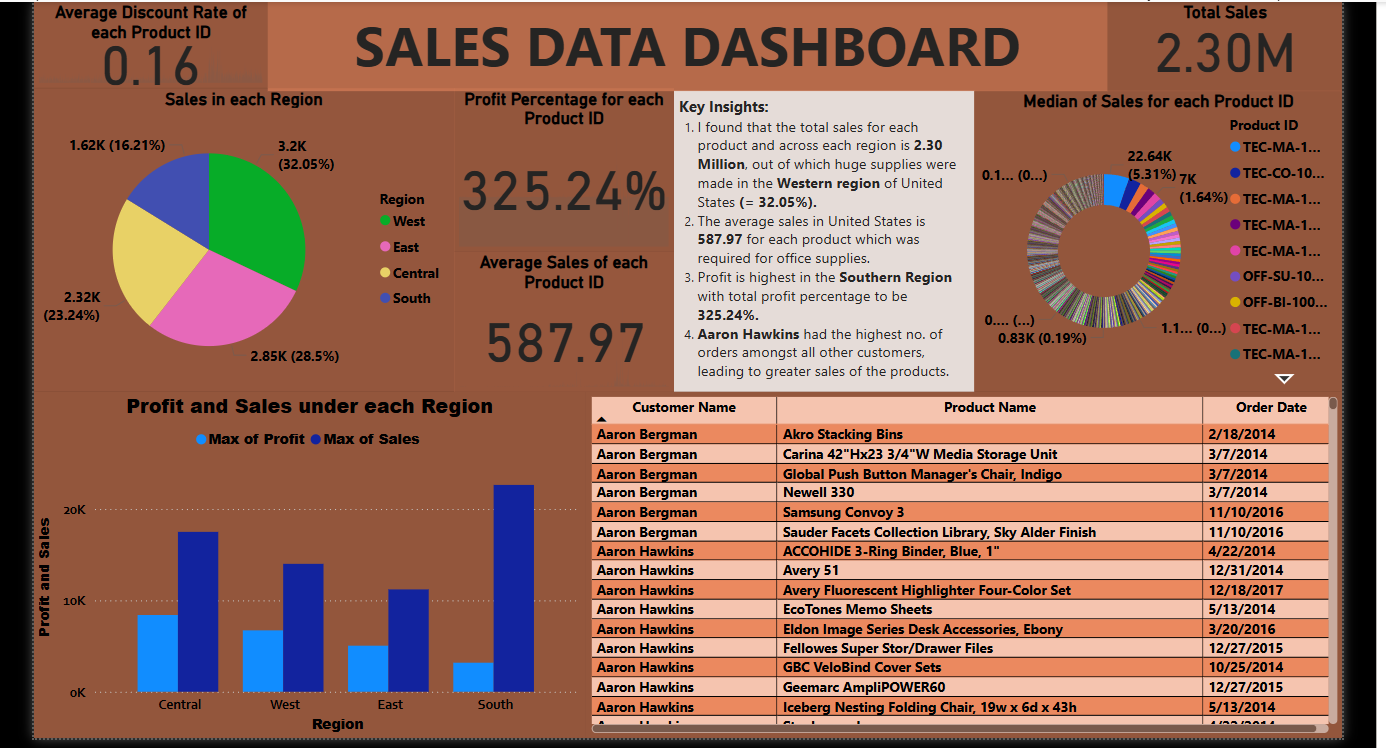

The page's visual inventory and layout, read from the dashboard file:
{"tool":"powerbi","page":{"name":"Page 1","canvas":[1280,720],"ordinal":0},"visuals":[{"type":"clusteredColumnChart","title":"Profit and Sales under each Region","fields":{"Y":["Sample - Superstore.Profit","Sample - Superstore.Sales"],"Category":["Sample - Superstore.Region"]},"box":[0,381.5,539.3,338.7],"z":0},{"type":"kpi","title":"Average Discount Rate of each Product ID","fields":{"TrendLine":["Sample - Superstore.Product ID"],"Indicator":["Sample - Superstore.Discount"]},"box":[0,0,228.7,84.4],"z":1000},{"type":"kpi","title":"Average Sales of each Product ID","fields":{"Indicator":["Sample - Superstore.Sales"],"TrendLine":["Sample - Superstore.Product ID"]},"box":[410.9,244.6,215.2,137],"z":2000},{"type":"kpi","title":"Profit Percentage for each Product ID","fields":{"Indicator":["Sample - Superstore.Profit"],"TrendLine":["Sample - Superstore.Product ID"]},"box":[410.9,84.4,215.2,160.2],"z":3000},{"type":"tableEx","fields":{"Values":["Sample - Superstore.Customer Name","Sample - Superstore.Product Name","Sample - Superstore.Order Date"]},"box":[539.3,381.5,741,338.7],"z":4000},{"type":"pieChart","title":"Sales in each Region","fields":{"Category":["Sample - Superstore.Region"],"Y":["Sample - Superstore.Sales"]},"box":[0,84.4,410.9,297.1],"z":5000},{"type":"card","title":"Total Sales","fields":{"Values":["Sample - Superstore.Sales"]},"box":[1050.4,0,229.9,86.8],"z":6000},{"type":"donutChart","title":"Median of Sales for each Product ID","fields":{"Category":["Sample - Superstore.Product ID"],"Y":["Sample - Superstore.Sales"]},"box":[919.6,86.8,360.7,294.7],"z":7000},{"type":"textbox","box":[626.1,86.8,293.5,294.7],"z":8000},{"type":"textbox","box":[228.7,0,821.7,86.8],"z":9000}]}

Visuals, with their boxes on the page's 1280x720 design canvas (x1, y1, x2, y2). These are canvas units, not pixel positions in the 1386x748 screenshot, which may show the page scaled, cropped or inside an application window:
"Profit and Sales under each Region" clusteredColumnChart: (0,382,539,720)
"Average Discount Rate of each Product ID" kpi: (0,0,229,84)
"Average Sales of each Product ID" kpi: (411,245,626,382)
"Profit Percentage for each Product ID" kpi: (411,84,626,245)
tableEx - Sample - Superstore.Customer Name x Sample - Superstore.Product Name: (539,382,1280,720)
"Sales in each Region" pieChart: (0,84,411,382)
"Total Sales" card: (1050,0,1280,87)
"Median of Sales for each Product ID" donutChart: (920,87,1280,382)
textbox: (626,87,920,382)
textbox: (229,0,1050,87)
